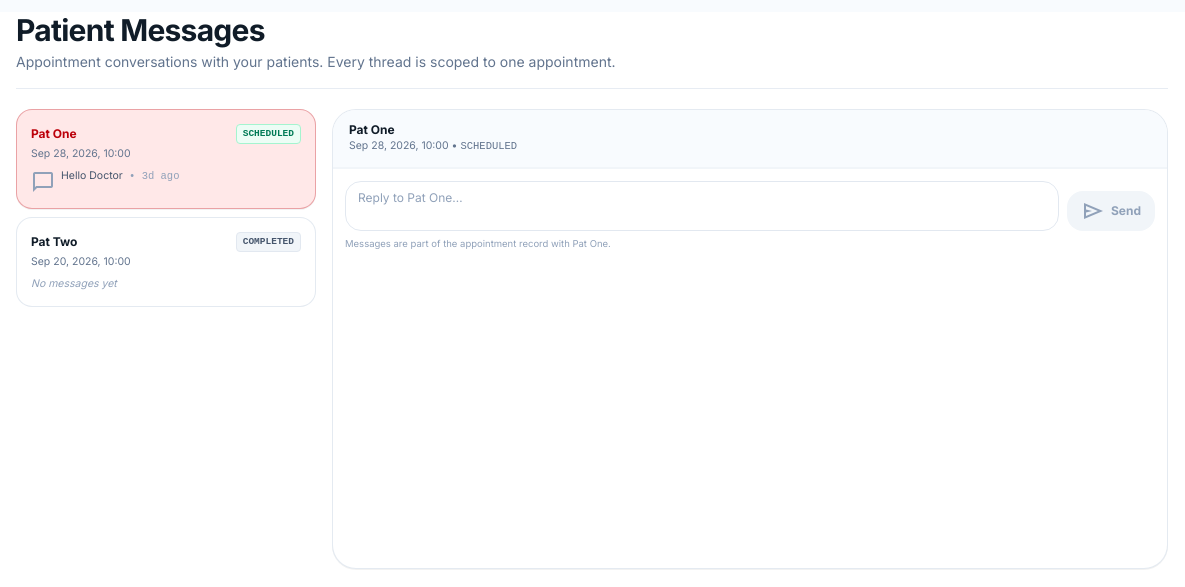
DoctorMessagesScreen › surfaces send failures without clearing the draft
Step 1. Type "Hello" into the text box labelled "Reply to Pat One…" → (702, 206), box [345,181,1059,231]
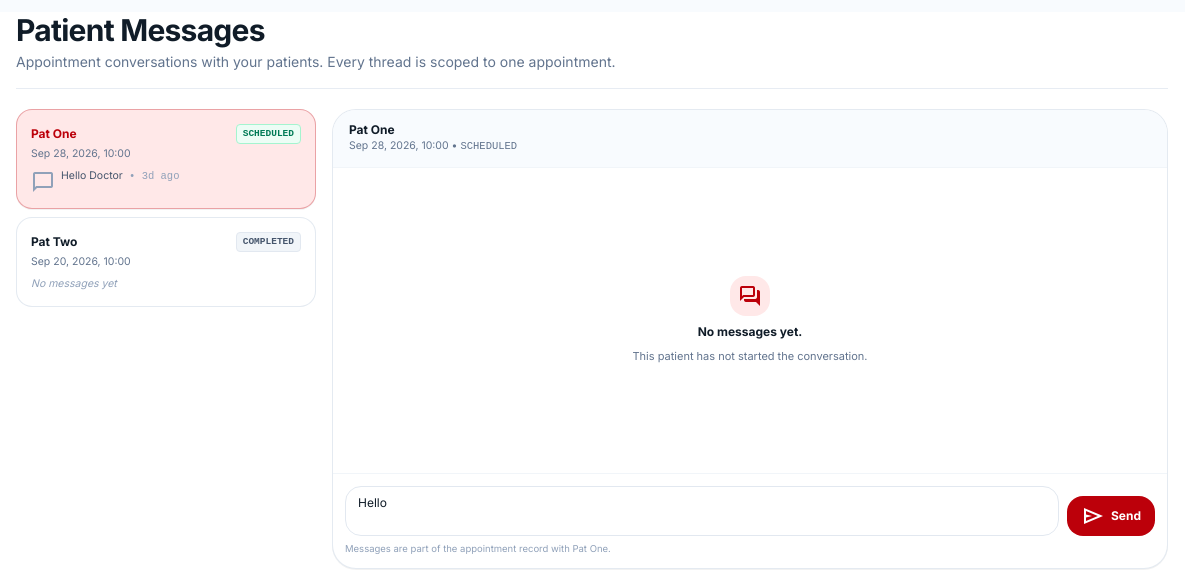
Step 2. Click the button with aria-label "send message" → click(1111, 516), box [1067,496,1155,536]
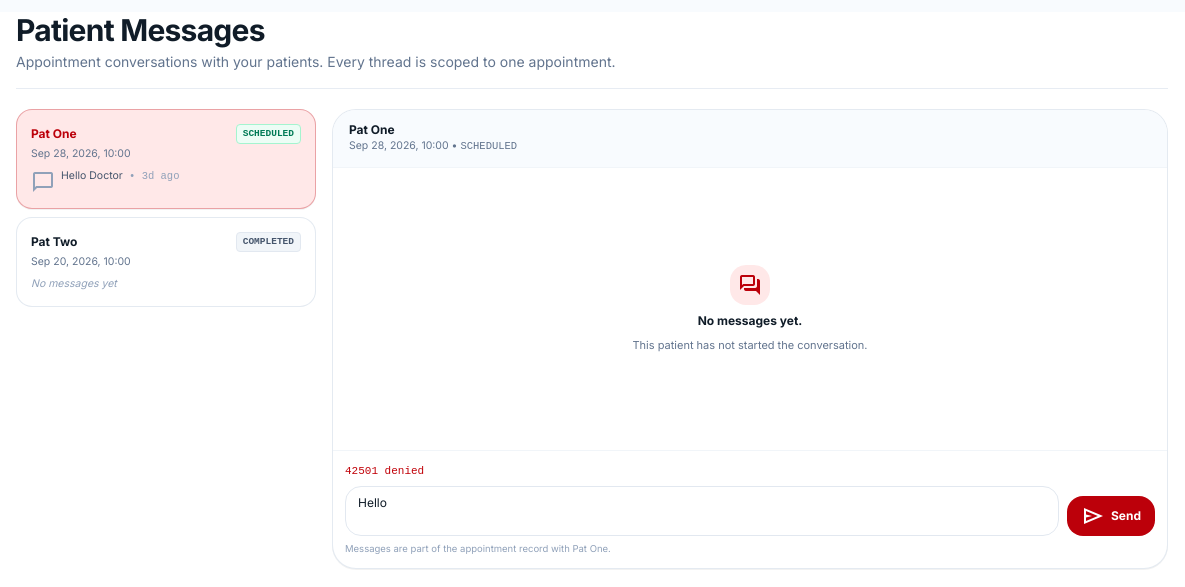
Expected: the text "42501 denied" is shown, [345,465,424,477]
